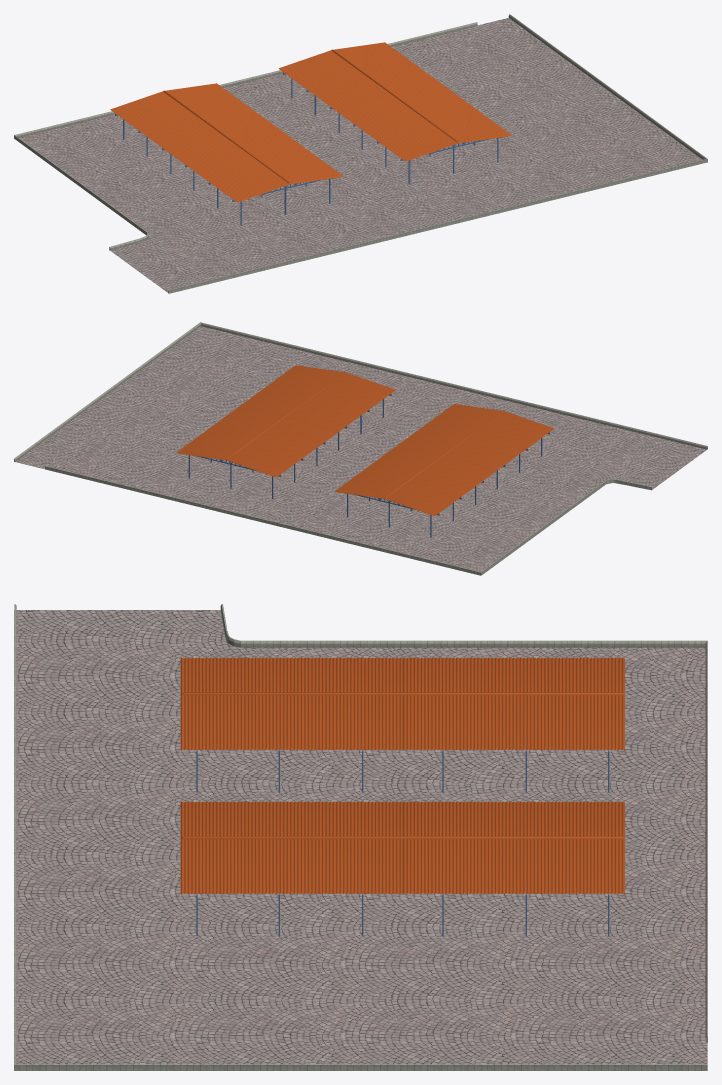
The model's file is Parking.fbx.
3 views of the same model, one above another, from view 1: azimuth 30°, elevation 25°; view 2: azimuth 150°, elevation 25°; view 3: azimuth 270°, elevation 25° (orthographic). The views are drawn at different scales.
Visible parts, largest first — view 1: Ground, Plate.001, Plate, Border, Legs, Legs.001; view 2: Ground, Plate, Plate.001, Border, Legs.001, Legs; view 3: Ground, Plate, Plate.001, Border, Mid.001, Mid.
Part boxes in pixels (x1,y1,x2,y2): Ground: (19, 18, 702, 292); Plate.001: (110, 83, 343, 202); Plate: (279, 42, 511, 161); Border: (14, 14, 707, 293); Legs: (283, 72, 498, 184); Legs.001: (115, 113, 330, 225); Ground: (15, 326, 706, 571); Plate: (176, 365, 395, 477); Plate.001: (335, 404, 553, 515); Border: (14, 322, 707, 575); Legs.001: (347, 432, 549, 537); Legs: (188, 393, 391, 498); Ground: (14, 610, 707, 1064); Plate: (180, 801, 624, 893); Plate.001: (180, 657, 624, 749); Border: (14, 604, 707, 1070); Mid.001: (182, 692, 623, 695); Mid: (182, 836, 623, 839).
Bounding box in the file's own units: 4201 × 6604 × 413.
